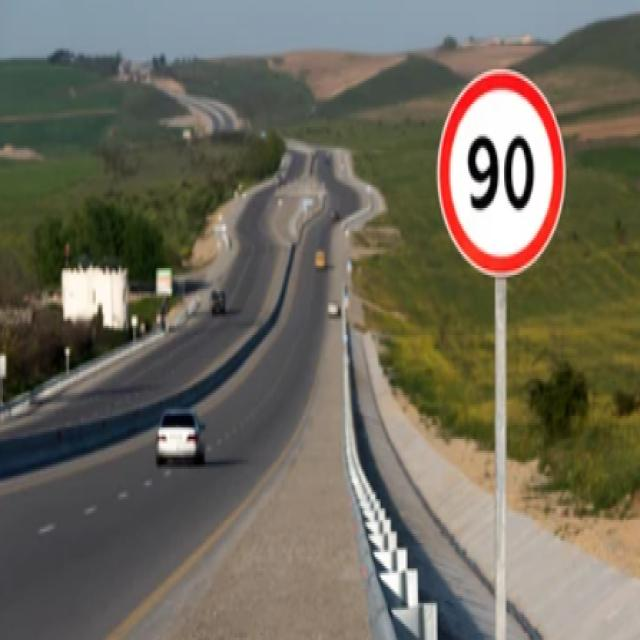speed_90: (435, 68, 567, 278)
